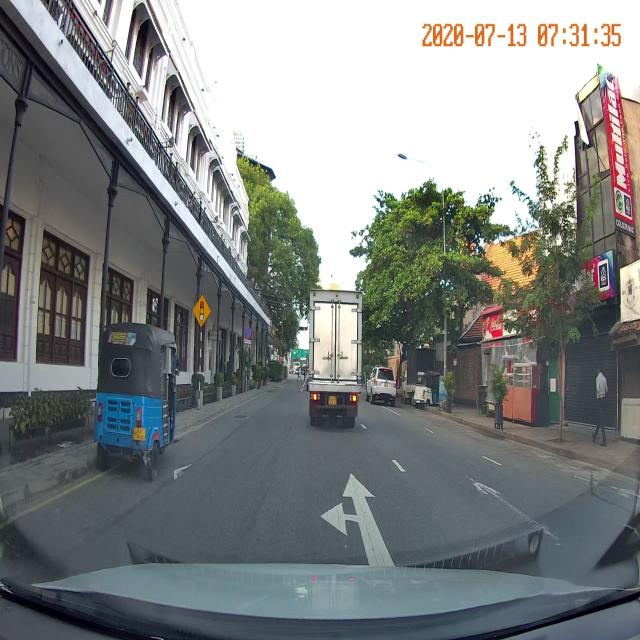forward_lft: (246, 453, 496, 570), (250, 481, 462, 527)
